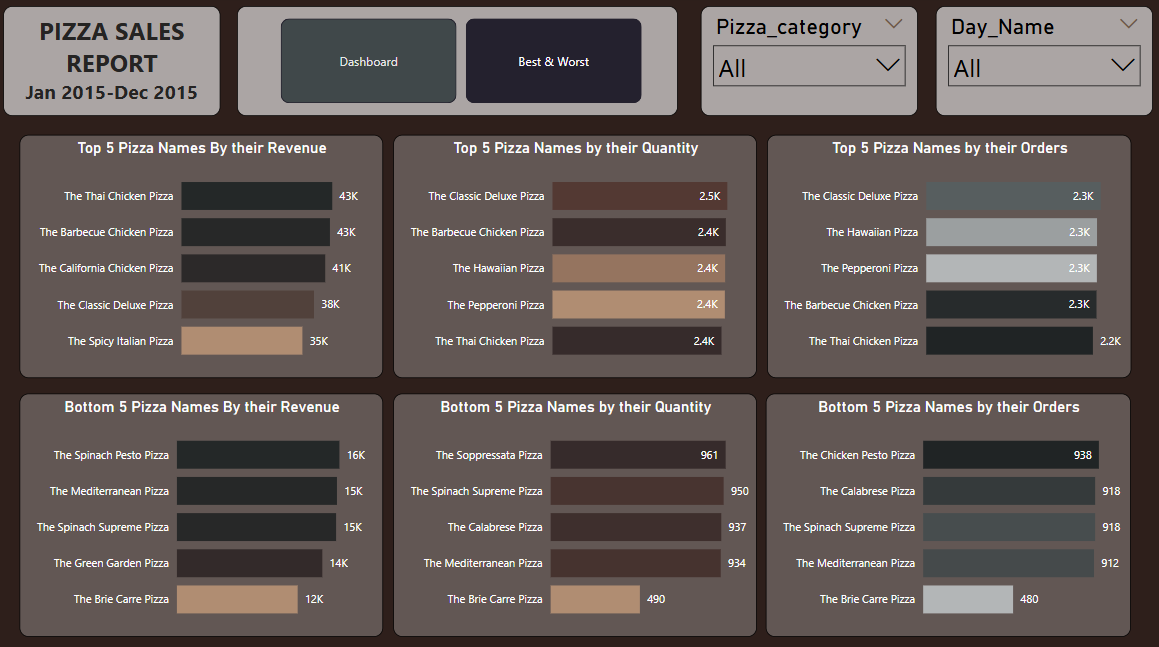

The dashboard page shown, as its layout file describes it:
{"tool":"powerbi","page":{"name":"Best & Worst","canvas":[1280,720],"ordinal":1},"visuals":[{"type":"textbox","box":[6.9,11,238.8,120.8],"z":0},{"type":"shape","box":[263.5,11,484.4,120.8],"z":1000},{"type":"slicer","fields":{"Values":["pizza_sales.pizza_category"]},"box":[772.6,11,238.8,120.8],"z":2000},{"type":"slicer","fields":{"Values":["pizza_sales.Day Name"]},"box":[1030.5,11,238.8,120.8],"z":3000},{"type":"pageNavigator","box":[311.5,24.7,396.6,93.3],"z":4000},{"type":"clusteredBarChart","title":"Top 5 Pizza Names By their Revenue","fields":{"Y":["All_measures.Revenue"],"Category":["pizza_sales.pizza_name"]},"box":[24.7,152.3,399.3,267.6],"z":5000},{"type":"clusteredBarChart","title":"Top 5 Pizza Names by their Quantity","fields":{"Y":["All_measures.Quantities"],"Category":["pizza_sales.pizza_name"]},"box":[435,152.3,399.3,267.6],"z":6000},{"type":"clusteredBarChart","title":"Top 5 Pizza Names by their Orders","fields":{"Y":["All_measures.Total_Pizza_orders"],"Category":["pizza_sales.pizza_name"]},"box":[845.3,152.3,400,267.6],"z":7000},{"type":"clusteredBarChart","title":"Bottom 5 Pizza Names By their Revenue","fields":{"Y":["All_measures.Revenue"],"Category":["pizza_sales.pizza_name"]},"box":[24.7,436.4,399.3,267.6],"z":8000},{"type":"clusteredBarChart","title":"Bottom 5 Pizza Names by their Quantity","fields":{"Y":["All_measures.Quantities"],"Category":["pizza_sales.pizza_name"]},"box":[435,436.4,399.3,267.6],"z":9000},{"type":"clusteredBarChart","title":"Bottom 5 Pizza Names by their Orders","fields":{"Y":["All_measures.Total_Pizza_orders"],"Category":["pizza_sales.pizza_name"]},"box":[843.9,436.4,400.7,267.6],"z":10000}]}

Visuals, with their boxes in screenshot pixels (x1, y1, x2, y2), scaled from the page's 1280x720 canvas onto the 1159x647 screenshot:
textbox: x1=6 y1=10 x2=222 y2=118
shape: x1=239 y1=10 x2=677 y2=118
slicer - pizza_sales.pizza_category: x1=700 y1=10 x2=916 y2=118
slicer - pizza_sales.Day Name: x1=933 y1=10 x2=1149 y2=118
pageNavigator: x1=282 y1=22 x2=641 y2=106
"Top 5 Pizza Names By their Revenue" clusteredBarChart: x1=22 y1=137 x2=384 y2=377
"Top 5 Pizza Names by their Quantity" clusteredBarChart: x1=394 y1=137 x2=755 y2=377
"Top 5 Pizza Names by their Orders" clusteredBarChart: x1=765 y1=137 x2=1128 y2=377
"Bottom 5 Pizza Names By their Revenue" clusteredBarChart: x1=22 y1=392 x2=384 y2=633
"Bottom 5 Pizza Names by their Quantity" clusteredBarChart: x1=394 y1=392 x2=755 y2=633
"Bottom 5 Pizza Names by their Orders" clusteredBarChart: x1=764 y1=392 x2=1127 y2=633
